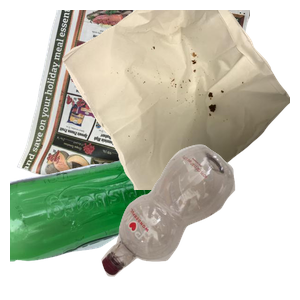glass: (10, 149, 203, 300)
paper: (14, 10, 254, 190)
plastic: (99, 142, 300, 300)
trash: (60, 10, 300, 190)
